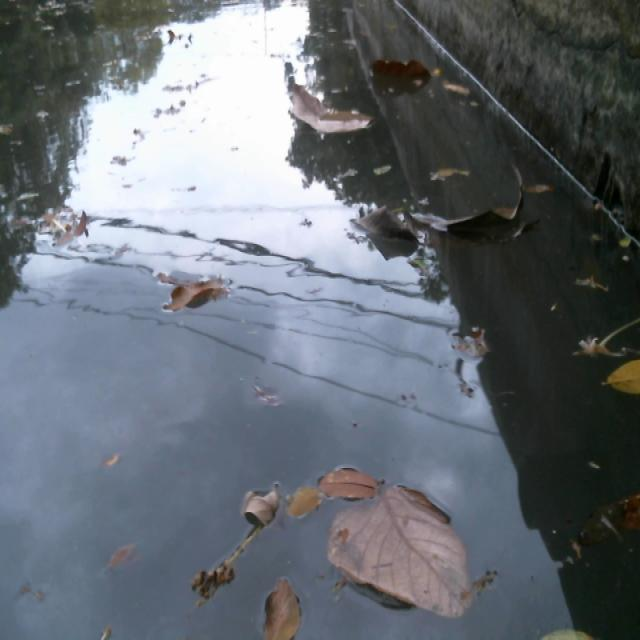Big-leaf: (329, 491, 492, 616), (419, 167, 543, 249), (282, 73, 378, 147), (353, 200, 437, 259), (326, 461, 395, 505), (377, 49, 434, 95)
Small-leaf: (578, 473, 640, 564), (172, 255, 243, 327), (231, 467, 292, 542), (186, 536, 246, 597), (102, 534, 172, 585), (578, 314, 640, 363), (447, 312, 487, 382), (39, 201, 84, 254), (265, 579, 303, 640), (605, 358, 640, 406), (283, 482, 318, 520), (442, 68, 473, 106), (252, 376, 278, 407), (169, 23, 192, 47), (102, 445, 121, 472)
